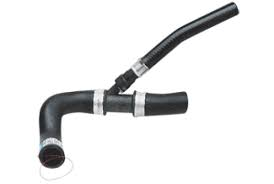radiator_hose: (38, 91, 187, 168)
